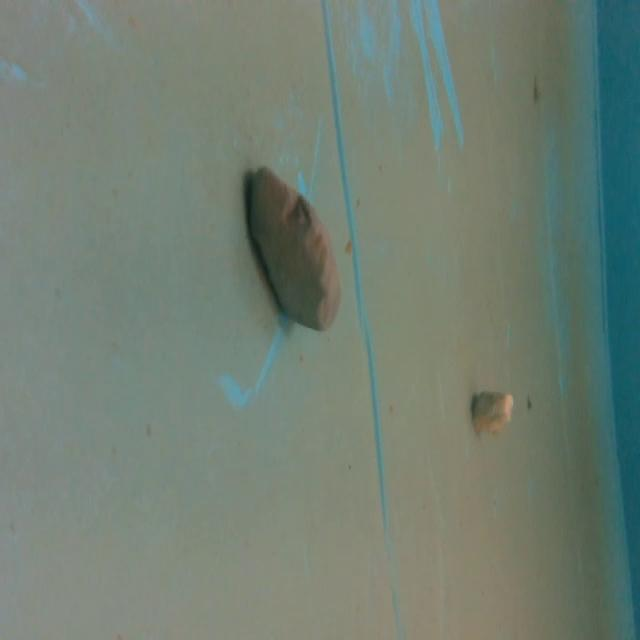rock: (242, 154, 347, 333), (465, 380, 516, 442)
